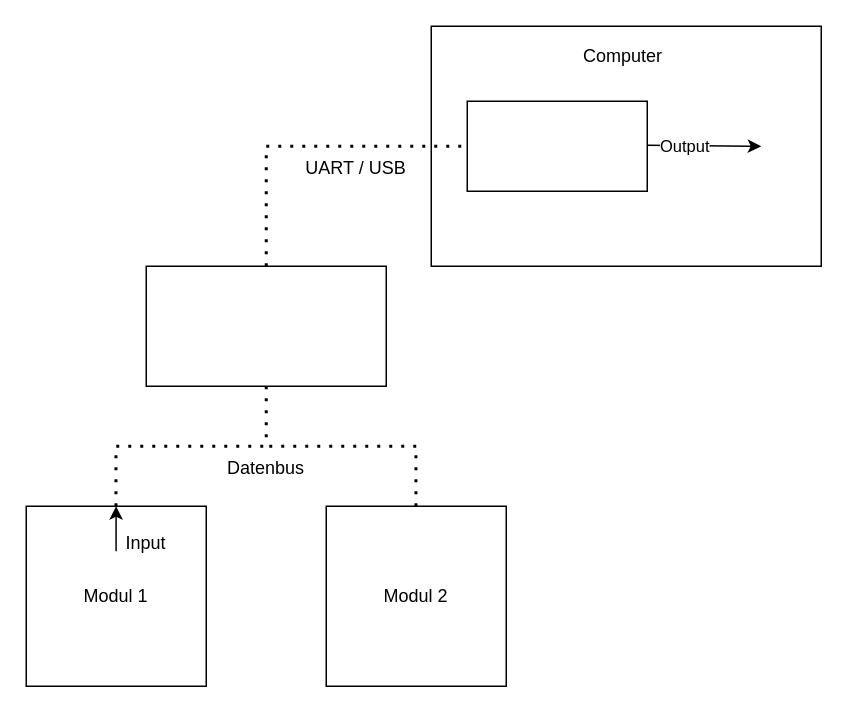
This 848x713 diagram has some shape labels left out. Each missing label, with the centre of its shape:
"Hauptcontroller" goes at (265,325).
"Mapping Programm" goes at (556,145).
